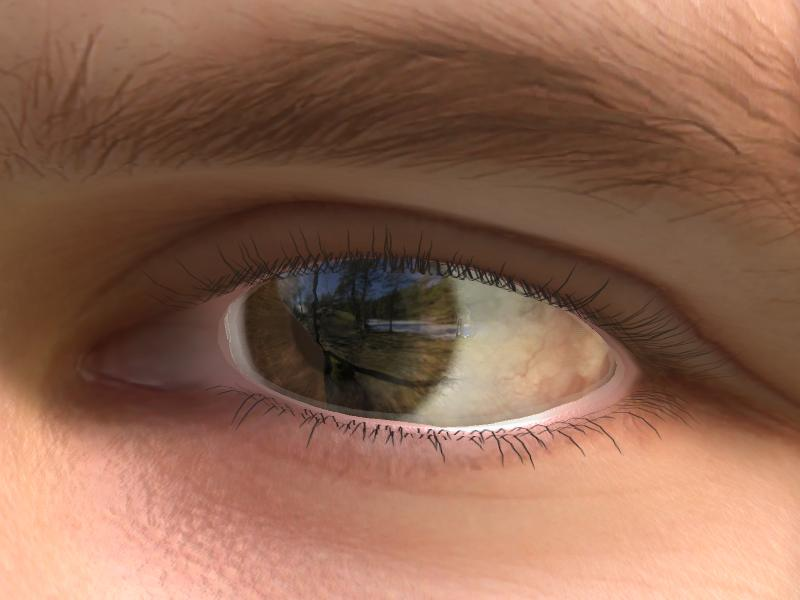eye: (246, 252, 458, 423)
